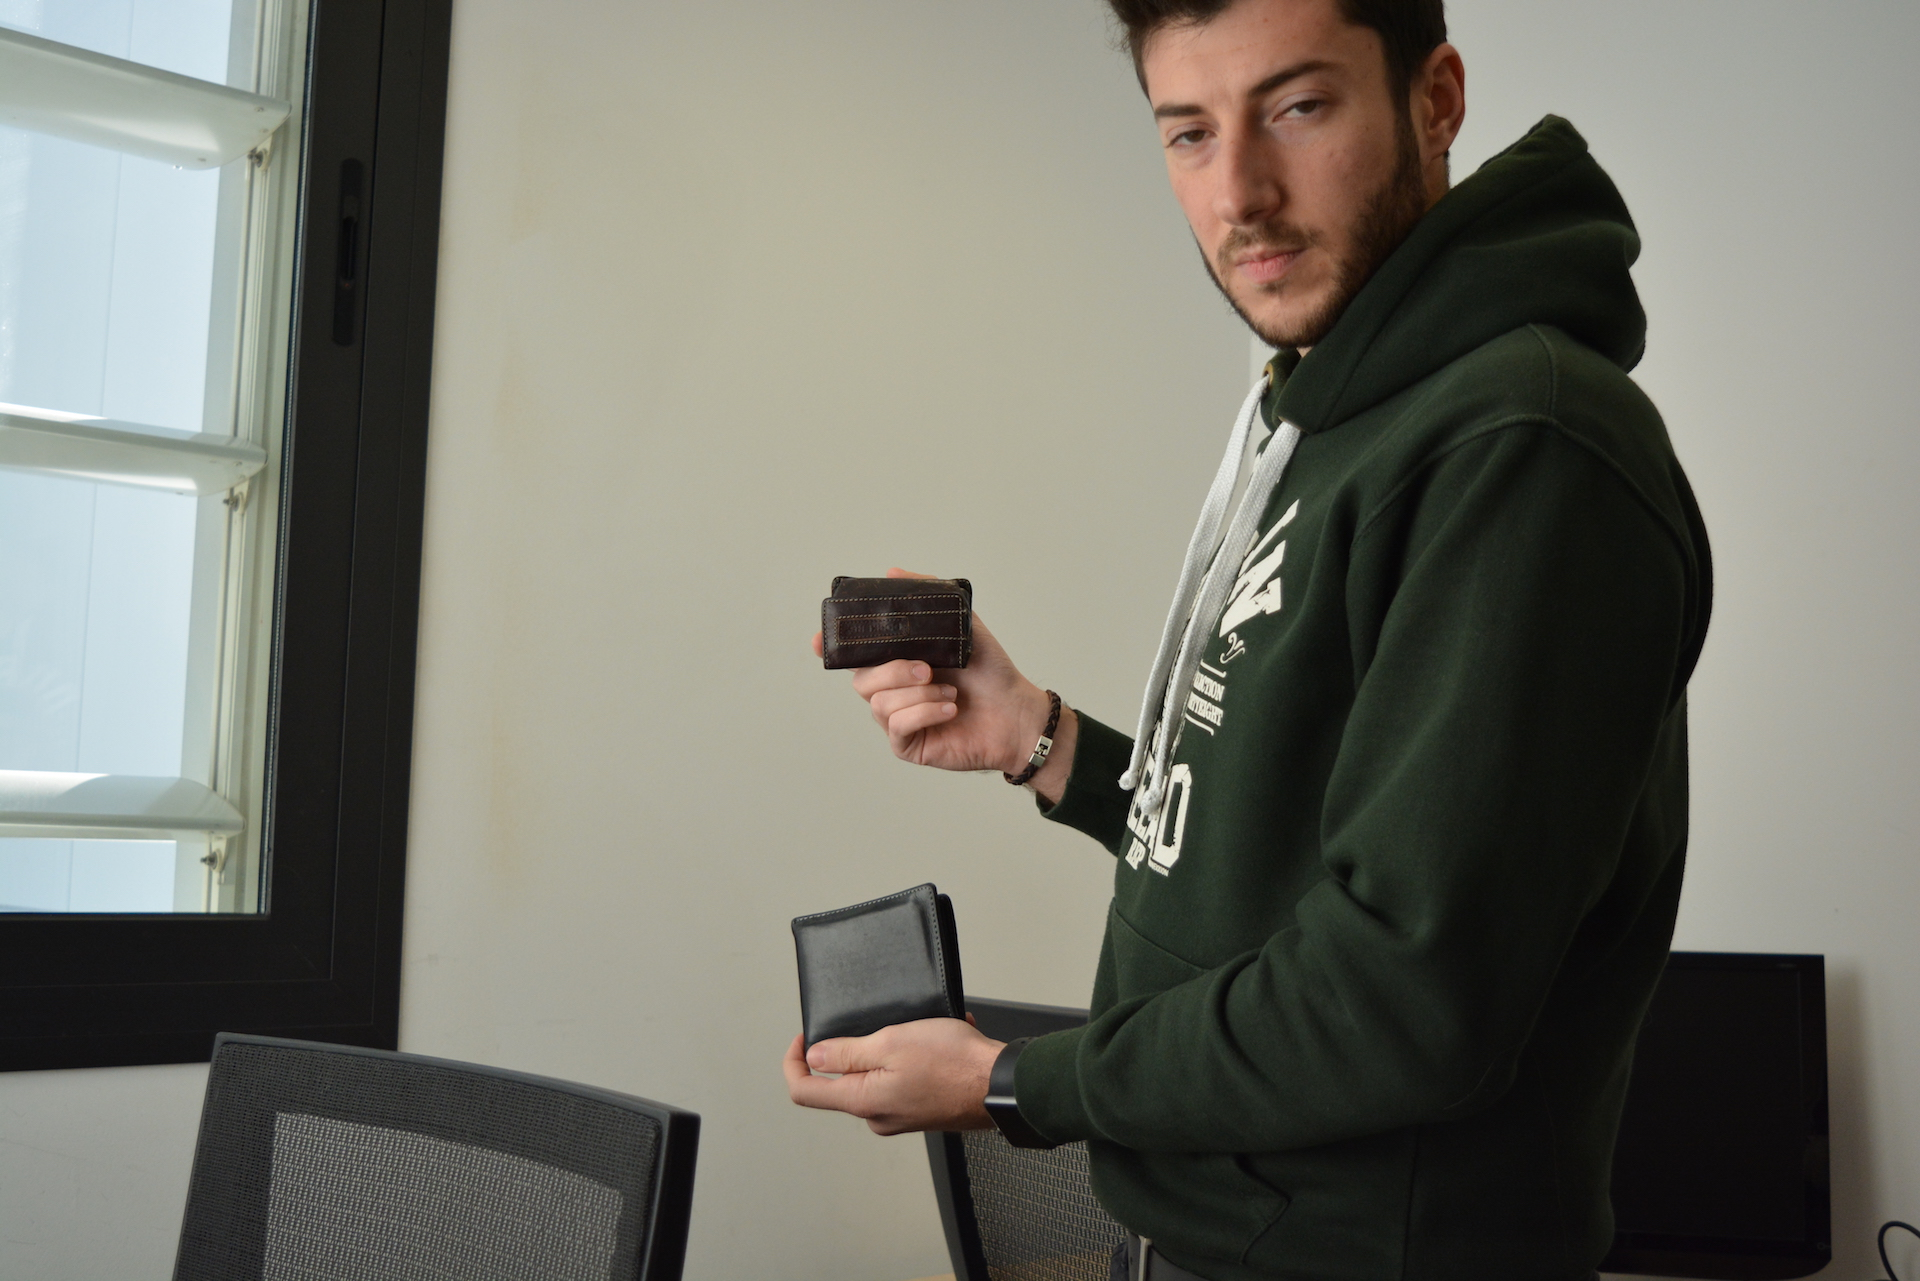monedero: (789, 879, 969, 1061), (819, 573, 976, 673)
